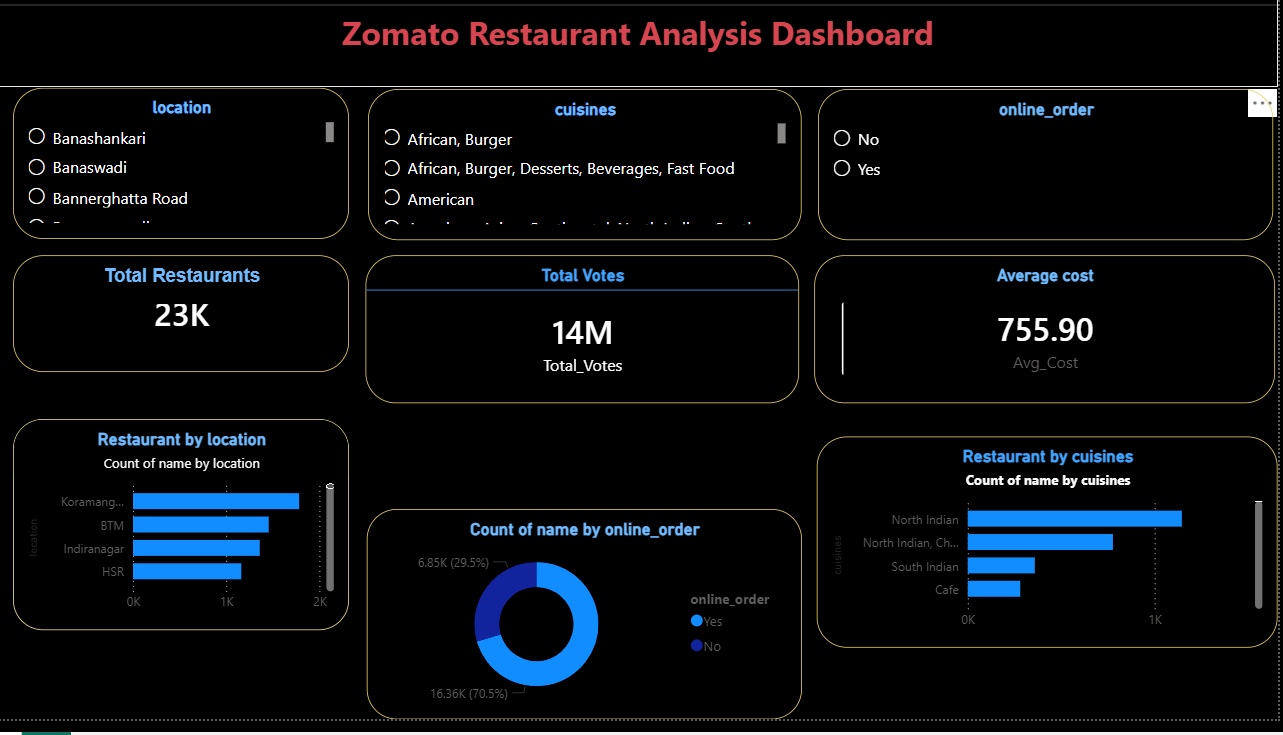

The page's visual inventory and layout, read from the dashboard file:
{"tool":"powerbi","page":{"name":"Page 1","canvas":[1280,720],"ordinal":0},"visuals":[{"type":"cardVisual","title":"Total Restaurants","fields":{"Data":["zomato (1).Total_Restaurants"]},"box":[15.1,256.6,336.2,116.6],"z":0},{"type":"cardVisual","title":"Total Votes","fields":{"Data":["zomato (1).Total_Votes"]},"box":[367.8,256.6,433.6,148.2],"z":1000},{"type":"cardVisual","title":"Average cost","fields":{"Data":["zomato (1).Avg_Cost"]},"box":[816.5,256.6,461.1,148.2],"z":2000},{"type":"textbox","box":[0,0,1280.3,89.2],"z":3000},{"type":"listSlicer","fields":{"Values":["zomato (1).location"]},"box":[15.1,89.2,336.2,150.9],"z":4000},{"type":"listSlicer","fields":{"Values":["zomato (1).cuisines"]},"box":[369.7,89.7,433.6,150.9],"z":5000},{"type":"listSlicer","fields":{"Values":["zomato (1).online_order"]},"box":[819.5,89.7,455.3,150.9],"z":6000},{"type":"clusteredBarChart","title":"Restaurant by cuisines","fields":{"Category":["zomato (1).cuisines"],"Y":["CountNonNull(zomato (1).name)"]},"box":[819.2,437.7,461.1,211.3],"z":7000},{"type":"clusteredBarChart","title":"Restaurant by  location","fields":{"Category":["zomato (1).location"],"Y":["CountNonNull(zomato (1).name)"]},"box":[15.1,419.9,336.2,211.3],"z":8000},{"type":"donutChart","fields":{"Category":["zomato (1).online_order"],"Y":["CountNonNull(zomato (1).name)"]},"box":[368.3,509.7,434.9,210.7],"z":9000}]}

Visuals, with their boxes in screenshot pixels (x1, y1, x2, y2), scaled from the page's 1280x720 canvas onto the 1283x735 screenshot:
"Total Restaurants" cardVisual: 15:262:352:381
"Total Votes" cardVisual: 369:262:803:413
"Average cost" cardVisual: 818:262:1281:413
textbox: 0:0:1282:91
listSlicer - zomato (1).location: 15:91:352:245
listSlicer - zomato (1).cuisines: 371:92:805:246
listSlicer - zomato (1).online_order: 821:92:1278:246
"Restaurant by cuisines" clusteredBarChart: 821:447:1282:663
"Restaurant by  location" clusteredBarChart: 15:429:352:644
donutChart - zomato (1).online_order x CountNonNull(zomato (1).name): 369:520:805:734
